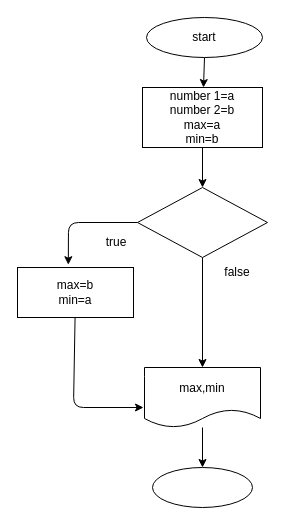
The diagram is 285 pixels wide and 525 high, and some of its shapes have lost their labels. Here are the shapes that lost their labels. From the top down, the box of each, then its label:
(136, 186, 268, 258): a<b
(152, 466, 252, 508): end
